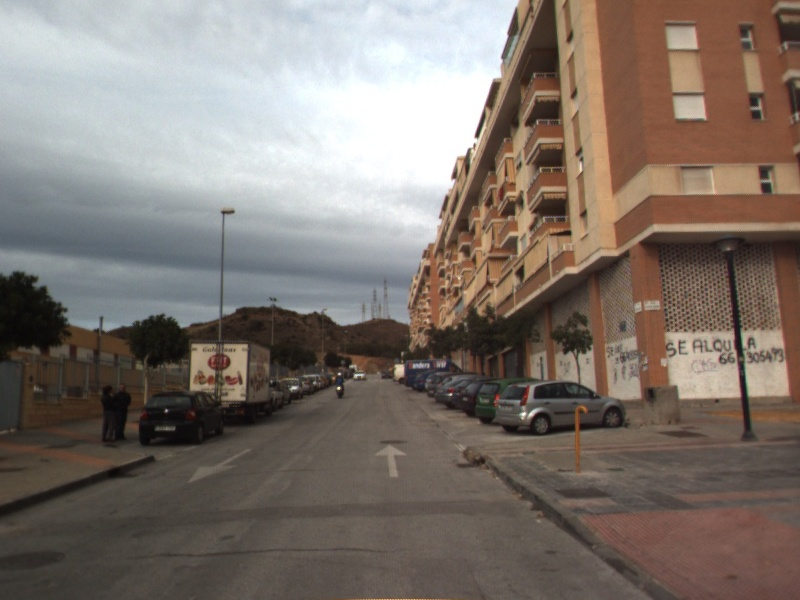STRAIGHT: (372, 442, 409, 478)
